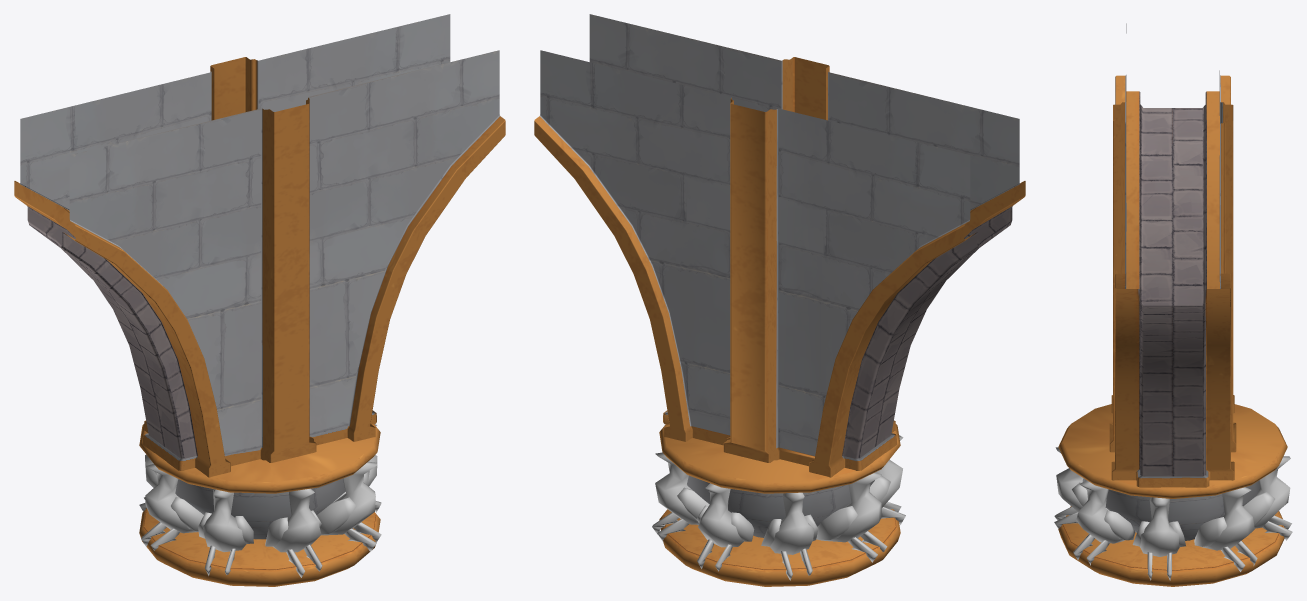
Rendered from SM_WallArchTop.fbx.
3 renders of one model, left to right at view 1: azimuth 30°, elevation 25°; view 2: azimuth 150°, elevation 25°; view 3: azimuth 270°, elevation 25°, orthographic. The views are drawn at different scales.
Parts seen in each view (by area): view 1: SM_WallArchTop; view 2: SM_WallArchTop; view 3: SM_WallArchTop.
Part boxes in pixels (box(x1,y1,x2,y2)): SM_WallArchTop: box(14, 14, 505, 586); SM_WallArchTop: box(534, 14, 1025, 586); SM_WallArchTop: box(1054, 23, 1292, 586).
Bounding box in the file's own units: 4 × 4.06 × 2.04.
